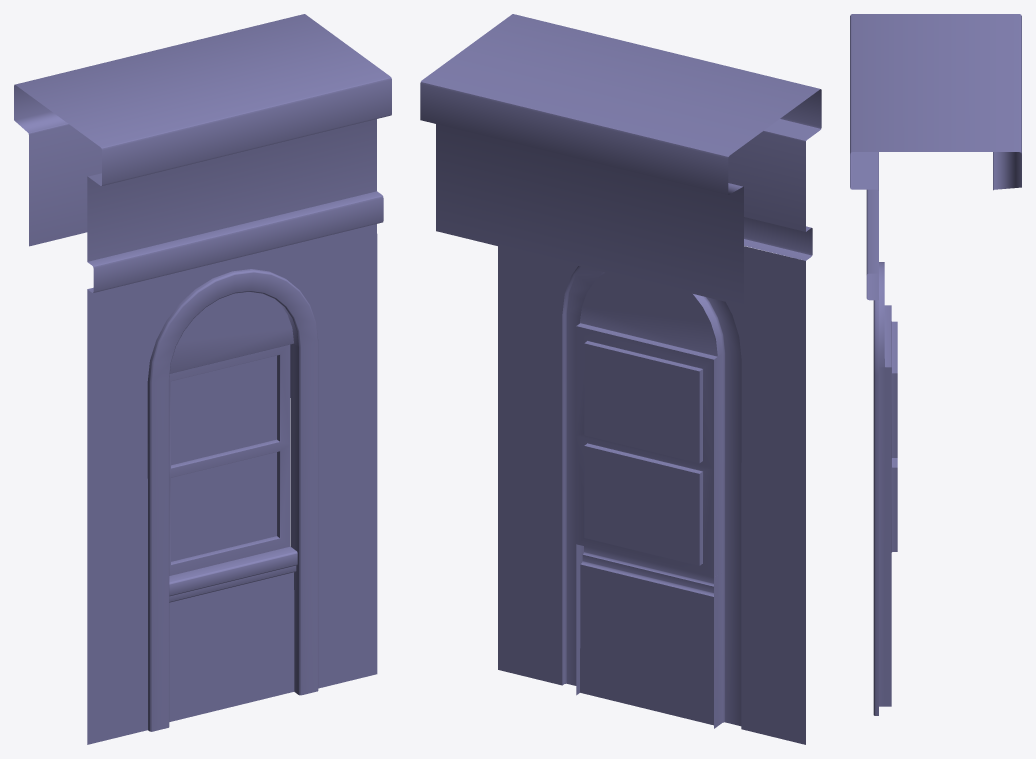
Rendered from M_A_window_010.fbx.
The picture shows the model from 3 angles, left to right: view 1: azimuth 30°, elevation 25°; view 2: azimuth 150°, elevation 25°; view 3: azimuth 270°, elevation 25°; orthographic projection. The views are drawn at different scales.
Visible parts, largest first — view 1: M_A_window_010; view 2: M_A_window_010; view 3: M_A_window_010.
Boxes of the visible parts, <box> form: M_A_window_010: <box>14,14,391,744</box>; M_A_window_010: <box>420,14,821,744</box>; M_A_window_010: <box>850,14,1021,715</box>.
Bounding box in the file's own units: 200 × 400 × 105.
